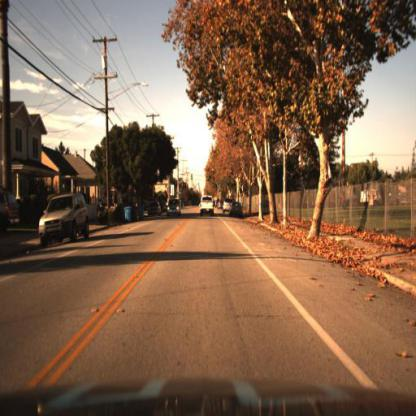car: (36, 190, 94, 251), (35, 190, 92, 249), (165, 197, 186, 222), (200, 190, 216, 219), (229, 200, 243, 220), (166, 198, 181, 216)
